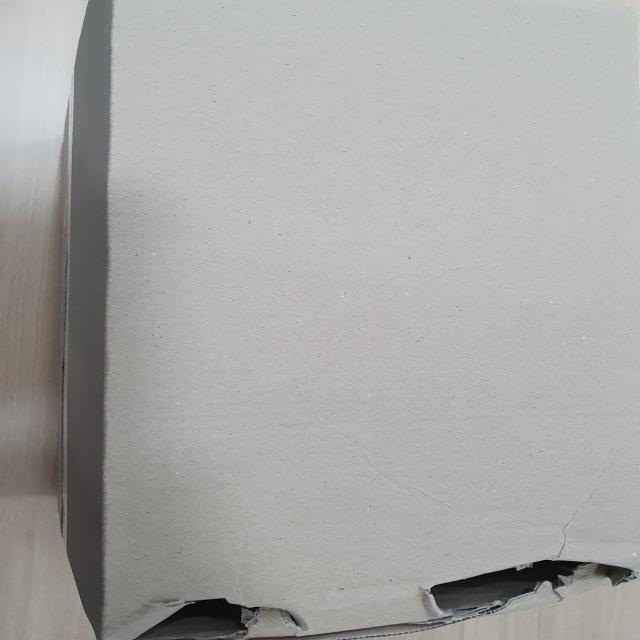hole: (414, 552, 638, 618), (114, 598, 311, 640)
